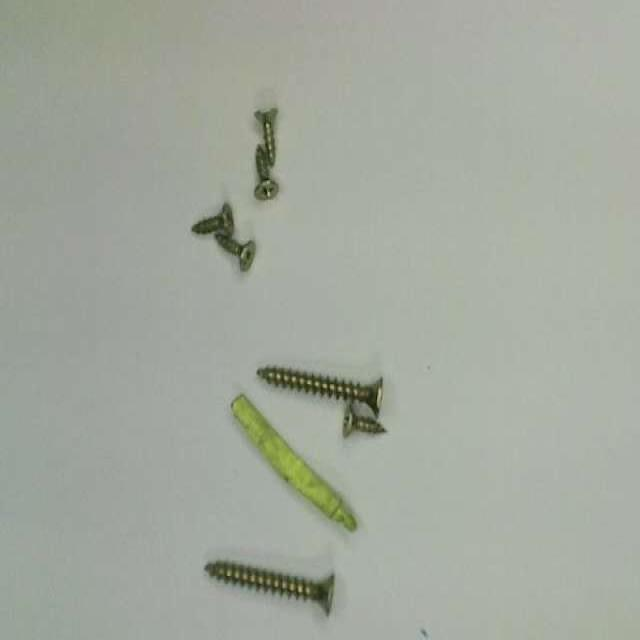Parafuso: (205, 561, 332, 615), (259, 367, 382, 415), (253, 107, 279, 167), (192, 203, 233, 236), (343, 404, 385, 436), (254, 145, 278, 200), (217, 235, 255, 269)
